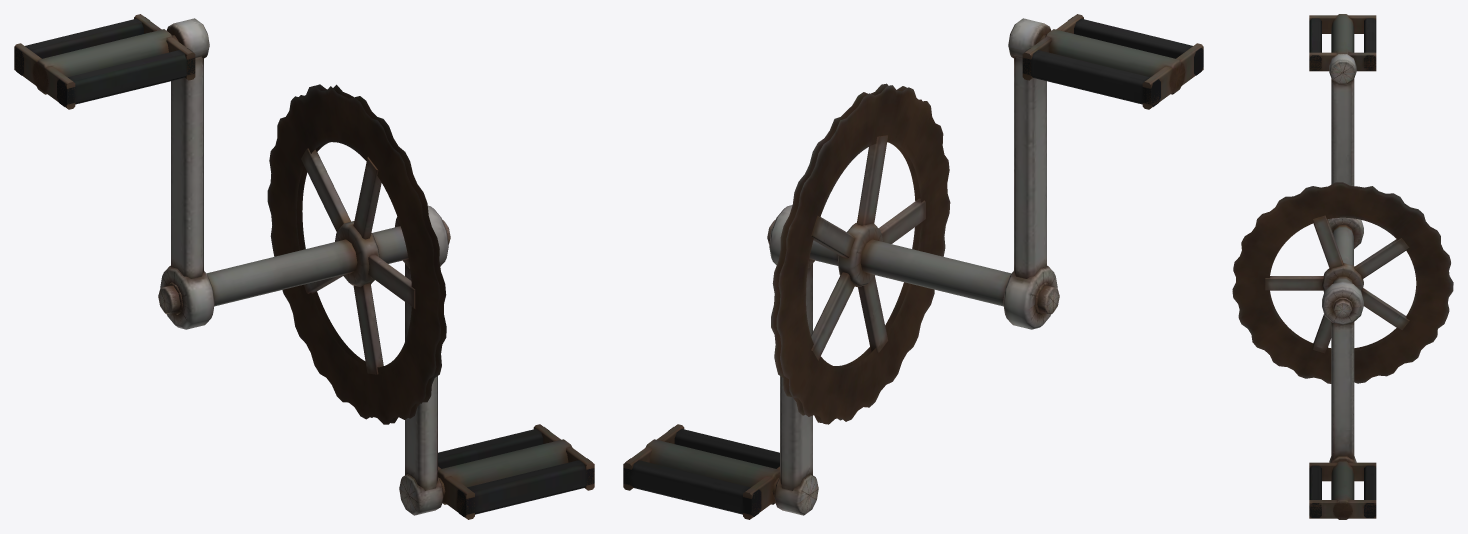
Rendered from bicycle_crank.glb.
3 renders of one model, left to right at view 1: azimuth 30°, elevation 25°; view 2: azimuth 150°, elevation 25°; view 3: azimuth 270°, elevation 25°, orthographic. The views are drawn at different scales.
Parts seen in each view (by area): view 1: bicycle_crank; view 2: bicycle_crank; view 3: bicycle_crank.
Part boxes in pixels (left/top/right/bottom): bicycle_crank: left=14, top=14, right=594, bottom=519; bicycle_crank: left=623, top=14, right=1203, bottom=519; bicycle_crank: left=1232, top=14, right=1453, bottom=519.
Bounding box in the file's own units: 0.37 × 0.3647 × 0.2108.
Materials: 1 (1 with a texture image).
